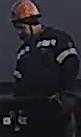gloves: (61, 86, 79, 117)
helmet: (9, 0, 41, 28)
vest: (12, 26, 77, 98)
